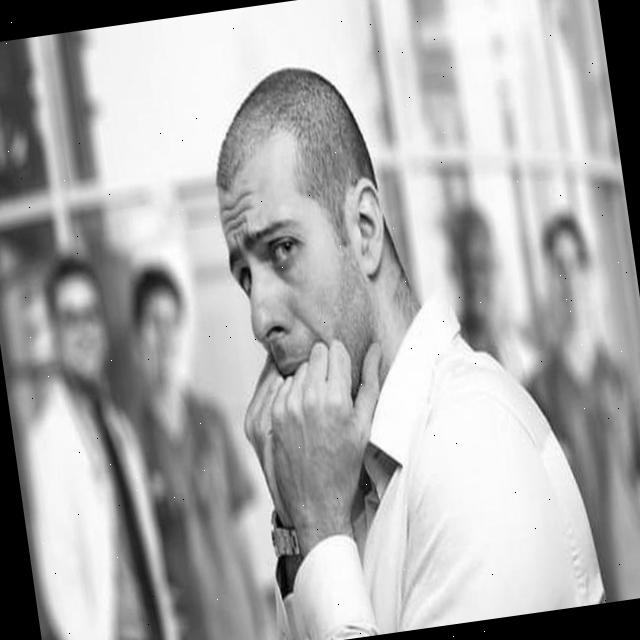Fear: (216, 166, 364, 400)
